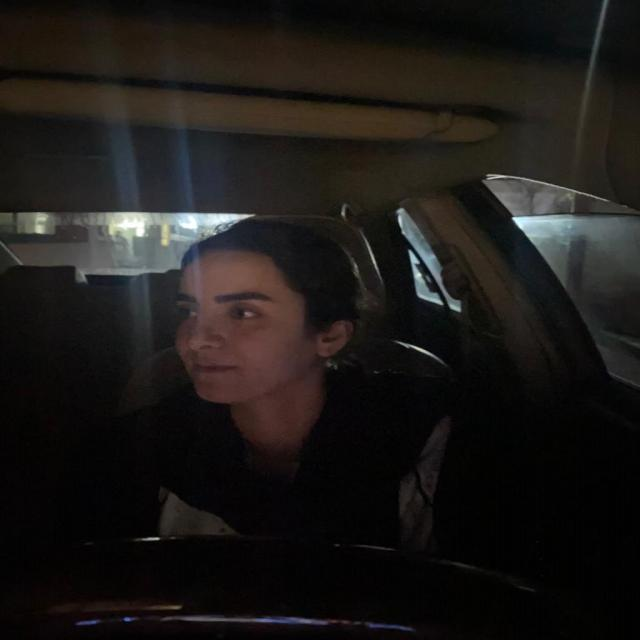LeftRight: (165, 219, 379, 418)
